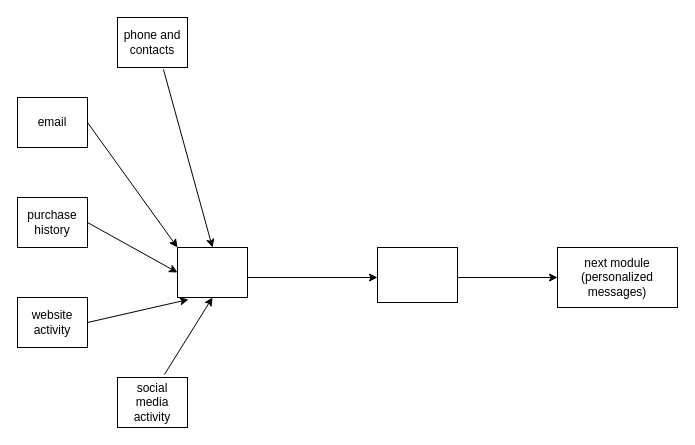
Some shapes in this 695 by 445 pixel diagram are drawn without their labels. The shapes that lost their labels are listed below. From the top down, each one's centre as x and y in pixels, then its label:
(212,272): CRM
(417,274): single database
